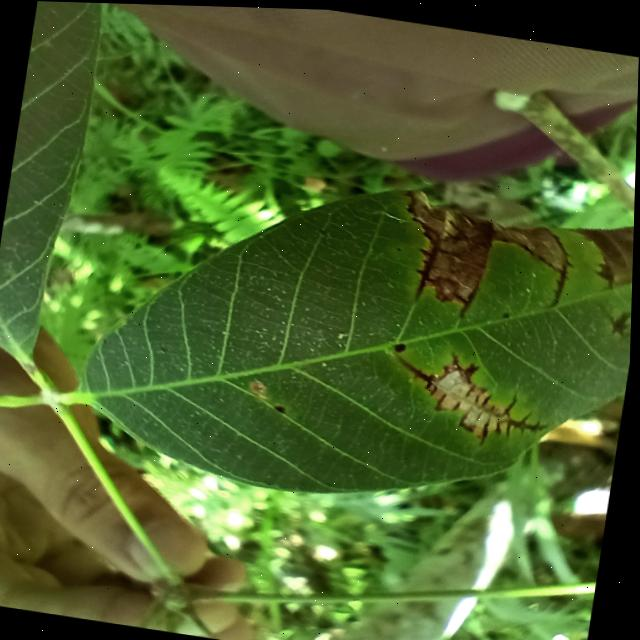Colletotrichum: (396, 338, 409, 350), (276, 403, 287, 410)
Corynespora: (391, 340, 559, 451), (410, 229, 448, 298), (550, 259, 572, 305), (452, 282, 482, 315), (604, 302, 633, 336)
Leaf-Blight: (393, 185, 574, 314), (569, 211, 635, 286)
